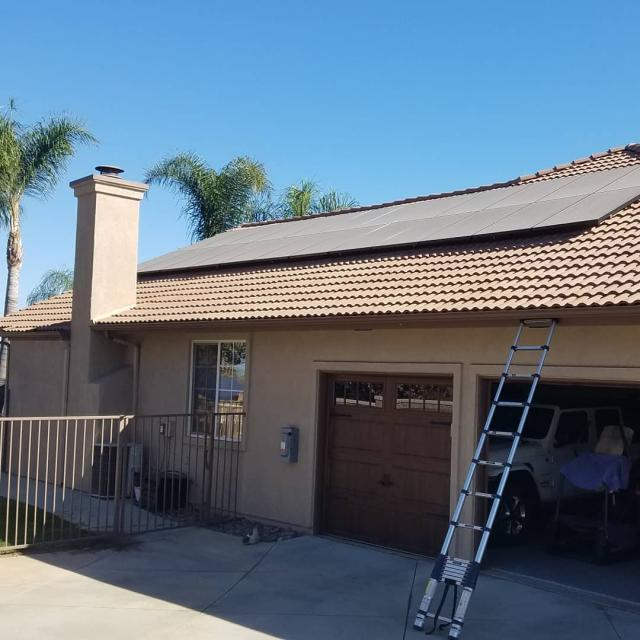Anomaly Solar Panel: (137, 160, 640, 272)
Surface Contaminant: (132, 162, 639, 272)
